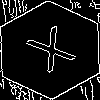X: (25, 25, 84, 82)
